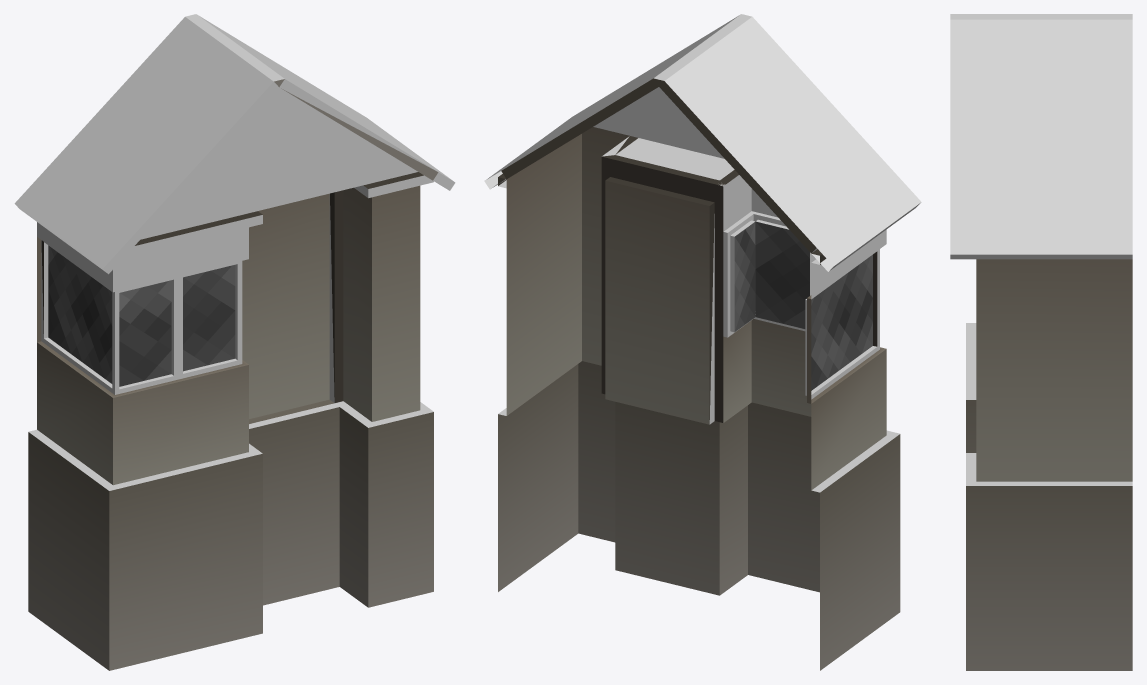
Rendered from Front_4.fbx.
3 views of the same model, side by side, from view 1: azimuth 30°, elevation 25°; view 2: azimuth 150°, elevation 25°; view 3: azimuth 270°, elevation 25° (orthographic). The views are drawn at different scales.
Visible parts, largest first — view 1: Front_C.001, Front_C.016, Front_C.014, Front_C.018, Front_C.028, Front_C.013, Front_C.005, Front_C.012, Front_C.004, Front_C.002, Front_C.003, Front_C.019 (+8 smaller); view 2: Front_C.001, Front_C.016, Front_C.018, Front_C.028, Front_C.014, Front_C.026, Front_C.005, Front_C.003, Front_C, Front_C.013, Front_C.015, Front_C.012 (+8 smaller); view 3: Front_C.016, Front_C.018, Front_C.001, Front_C.015, Front_C.021, Front_C.019, Front_C.017.
Boxes of the visible parts, <box> form: Front_C.001: <box>28,407,433,670</box>; Front_C.016: <box>32,15,436,249</box>; Front_C.014: <box>37,342,248,485</box>; Front_C.018: <box>335,185,420,421</box>; Front_C.028: <box>242,193,329,418</box>; Front_C.013: <box>140,87,417,239</box>; Front_C.005: <box>48,245,112,383</box>; Front_C.012: <box>37,222,248,292</box>; Front_C.004: <box>41,240,242,394</box>; Front_C.002: <box>119,280,171,386</box>; Front_C.003: <box>183,265,235,371</box>; Front_C.019: <box>15,79,455,274</box>; Front_C.001: <box>498,361,900,670</box>; Front_C.016: <box>503,15,904,247</box>; Front_C.018: <box>506,127,629,415</box>; Front_C.028: <box>605,180,709,424</box>; Front_C.014: <box>723,319,886,490</box>; Front_C.026: <box>601,156,723,422</box>; Front_C.005: <box>811,254,872,390</box>; Front_C.003: <box>755,221,809,328</box>; Front_C: <box>498,78,826,264</box>; Front_C.013: <box>593,87,724,158</box>; Front_C.015: <box>486,107,921,266</box>; Front_C.012: <box>723,175,886,298</box>; Front_C.016: <box>950,19,1132,231</box>; Front_C.018: <box>976,259,1132,481</box>; Front_C.001: <box>966,400,1132,670</box>; Front_C.015: <box>950,231,1132,254</box>; Front_C.021: <box>966,323,1132,485</box>; Front_C.019: <box>950,254,1132,259</box>; Front_C.017: <box>950,14,1132,19</box>.
Bounding box in the file's own units: 401 × 606 × 175.
